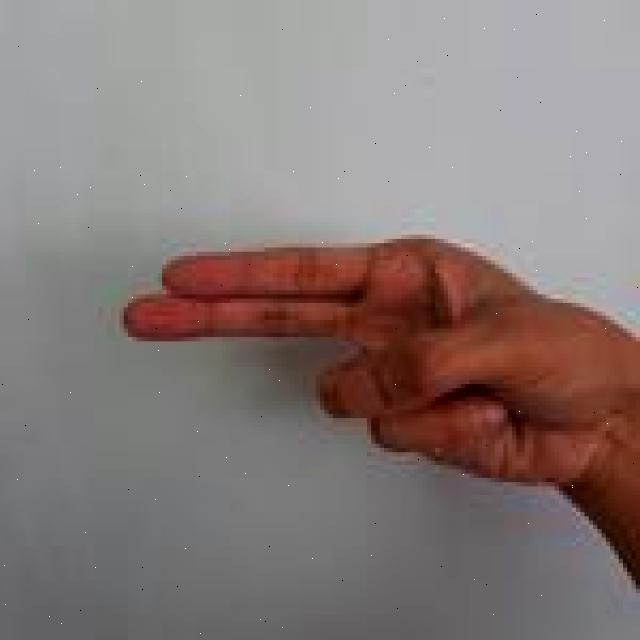H: (117, 226, 640, 594)
